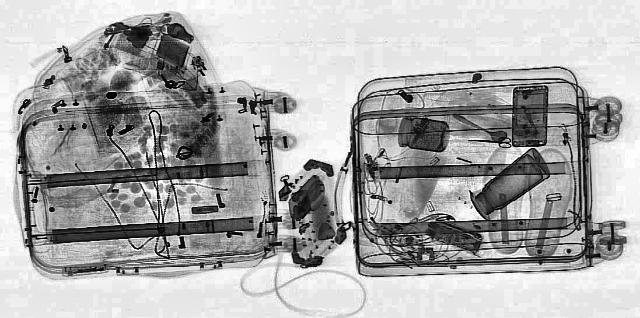Scissors: (466, 136, 512, 146)
